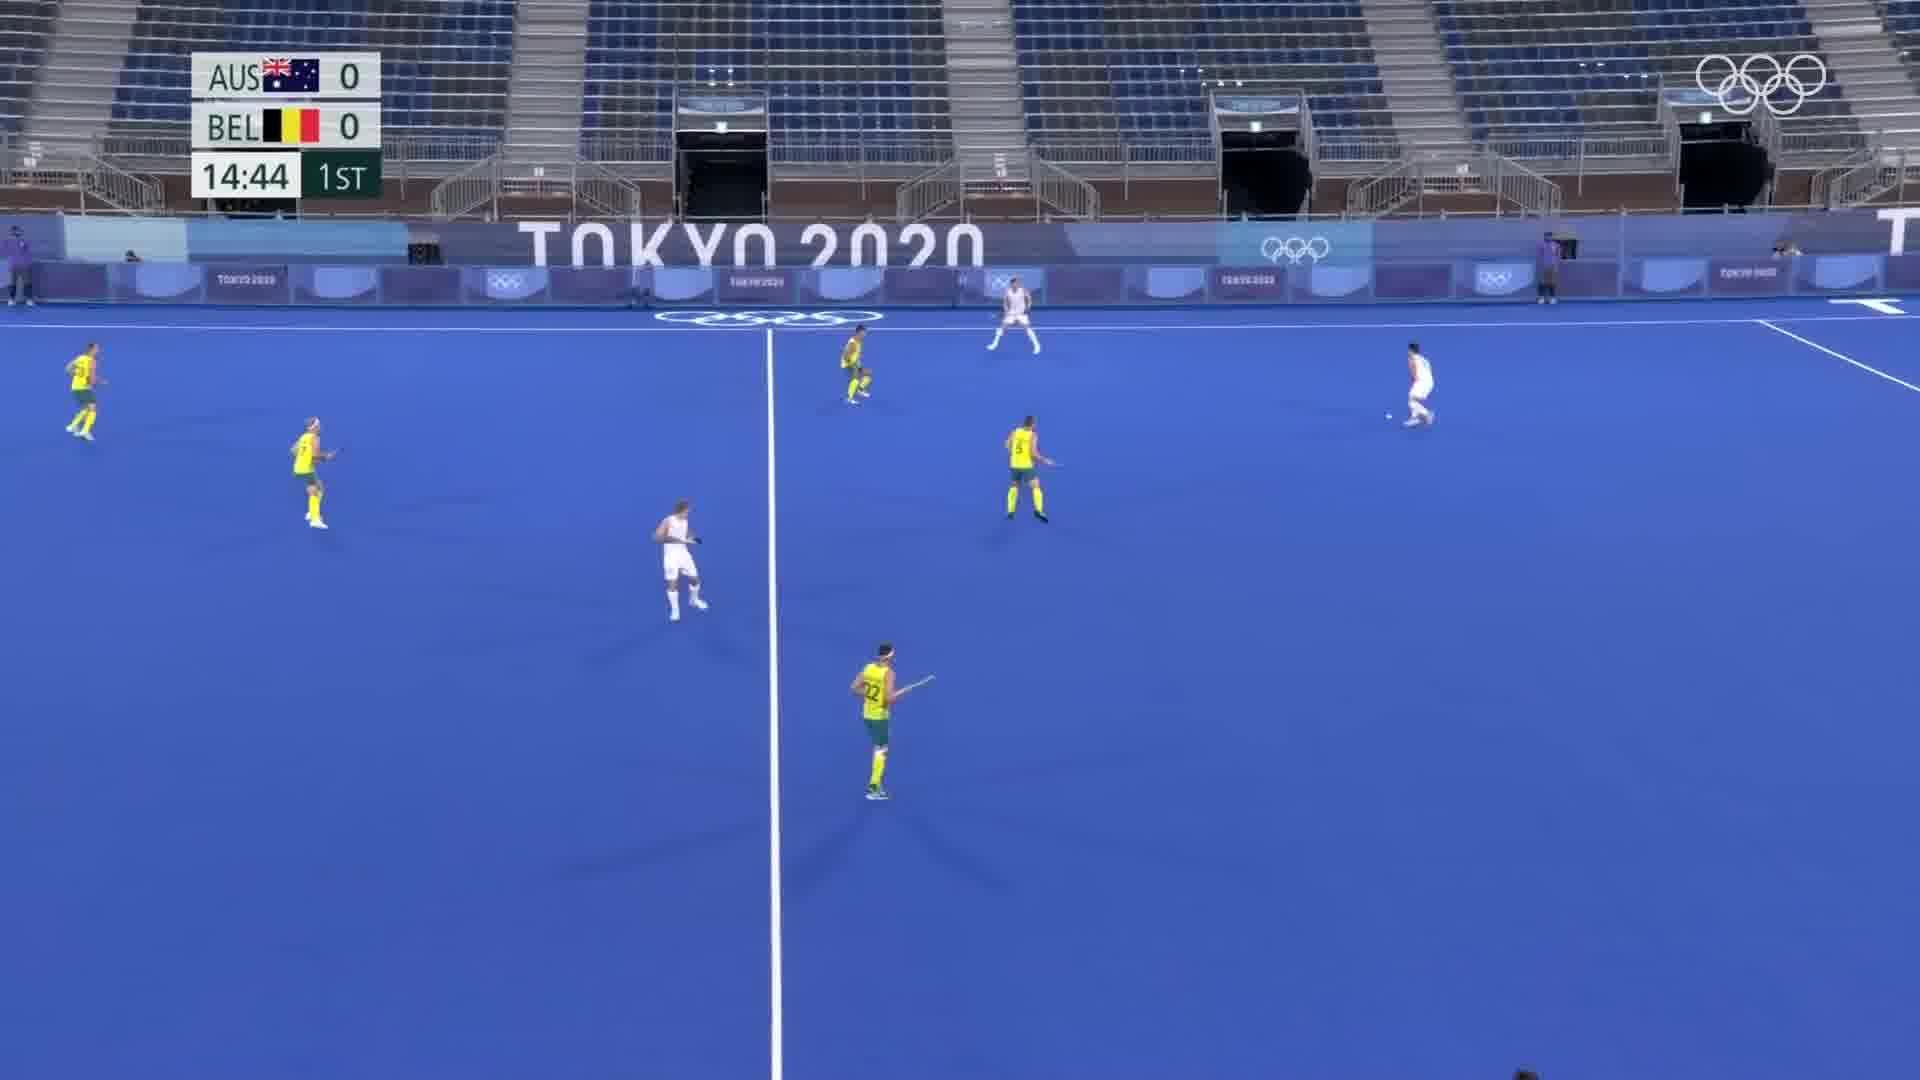ball: (1369, 405, 1402, 433)
